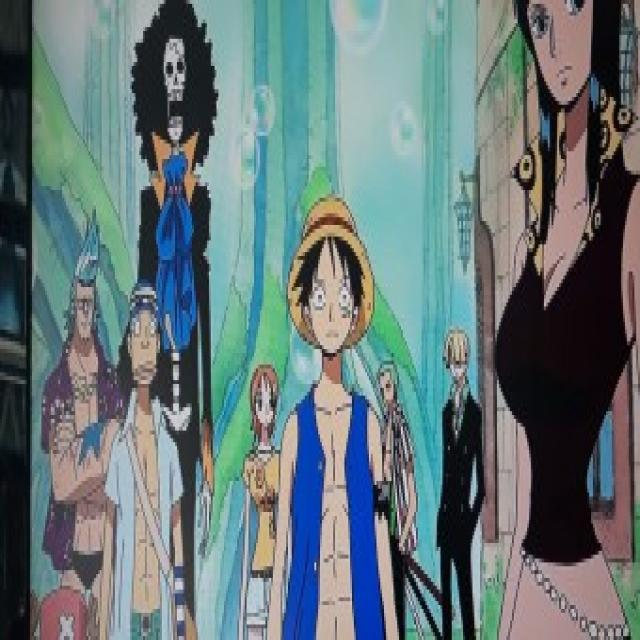Blook: (126, 0, 220, 185)
Franky: (64, 214, 109, 363)
Luffy: (287, 194, 371, 356)
Nami: (243, 348, 276, 448)
NicoRobin: (514, 0, 640, 190)
Sangdi: (442, 316, 475, 394)
Usopp: (127, 279, 165, 413)
Zoro: (373, 358, 412, 408)
